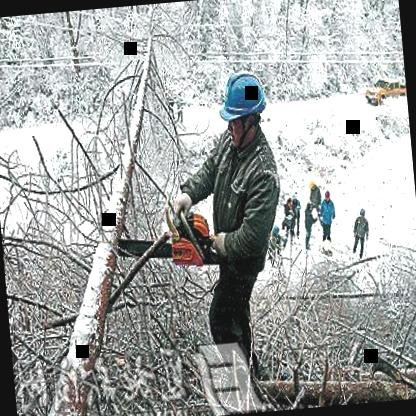helmet: (215, 66, 273, 147)
